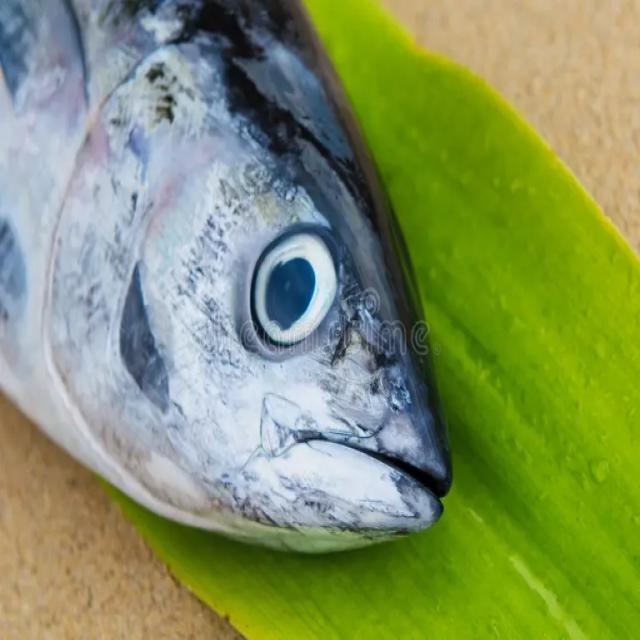Tuna: (0, 0, 452, 548)
